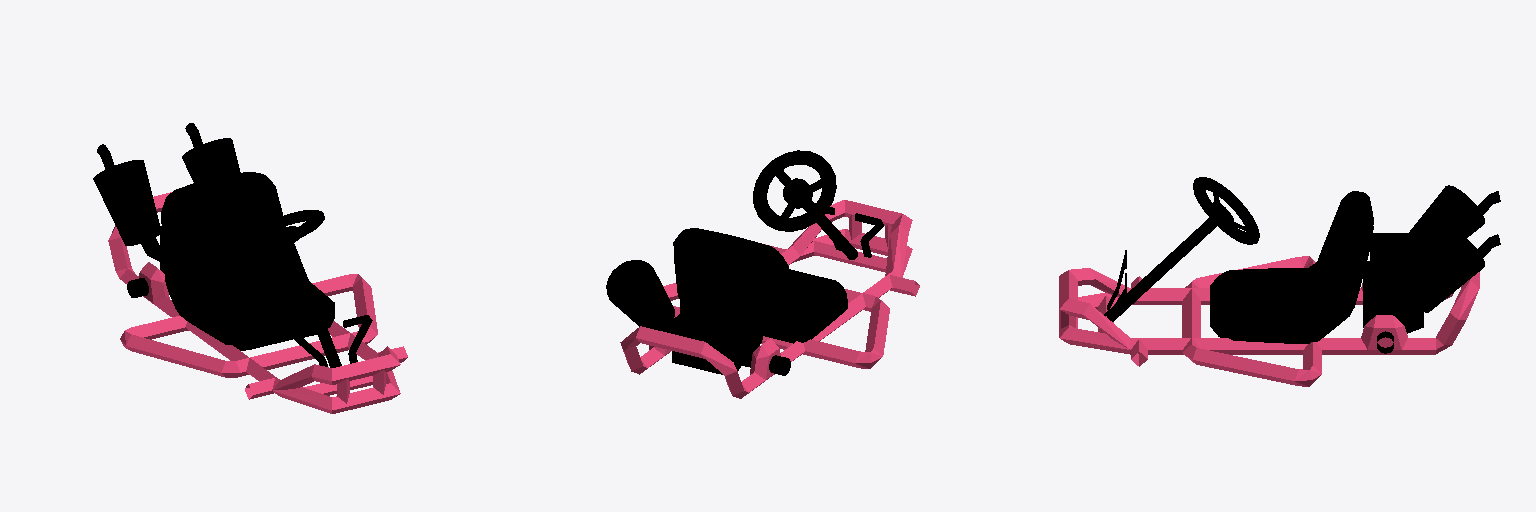
The picture shows the model from 3 angles: view 1: azimuth 30°, elevation 25°; view 2: azimuth 150°, elevation 25°; view 3: azimuth 270°, elevation 25°; orthographic projection.
Visible parts, largest first — view 1: Kart:pPlaneShape5; view 2: Kart:pPlaneShape5; view 3: Kart:pPlaneShape5.
Part boxes in pixels (bbox=[...]): Kart:pPlaneShape5: bbox=[93, 123, 407, 413]; Kart:pPlaneShape5: bbox=[606, 150, 919, 398]; Kart:pPlaneShape5: bbox=[1059, 177, 1500, 386].
Size of the model in its own units: 1 by 0.5781 by 1.56.
Materials: 8 (1 with a texture image).